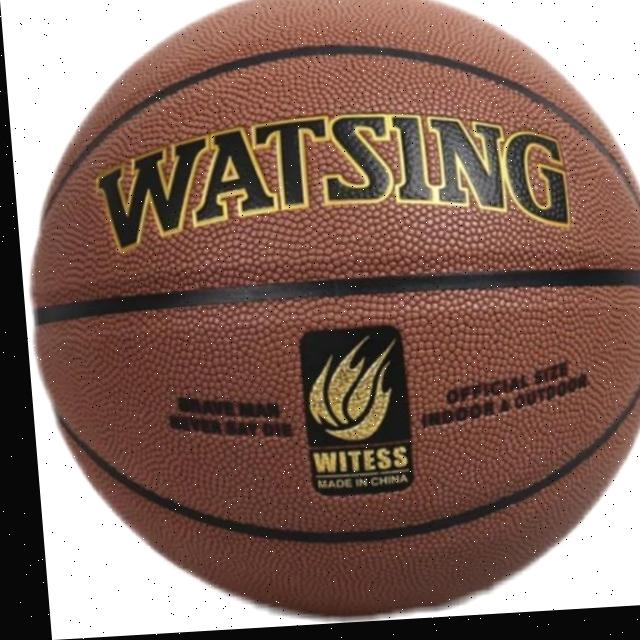Basketball: (11, 0, 640, 632)
